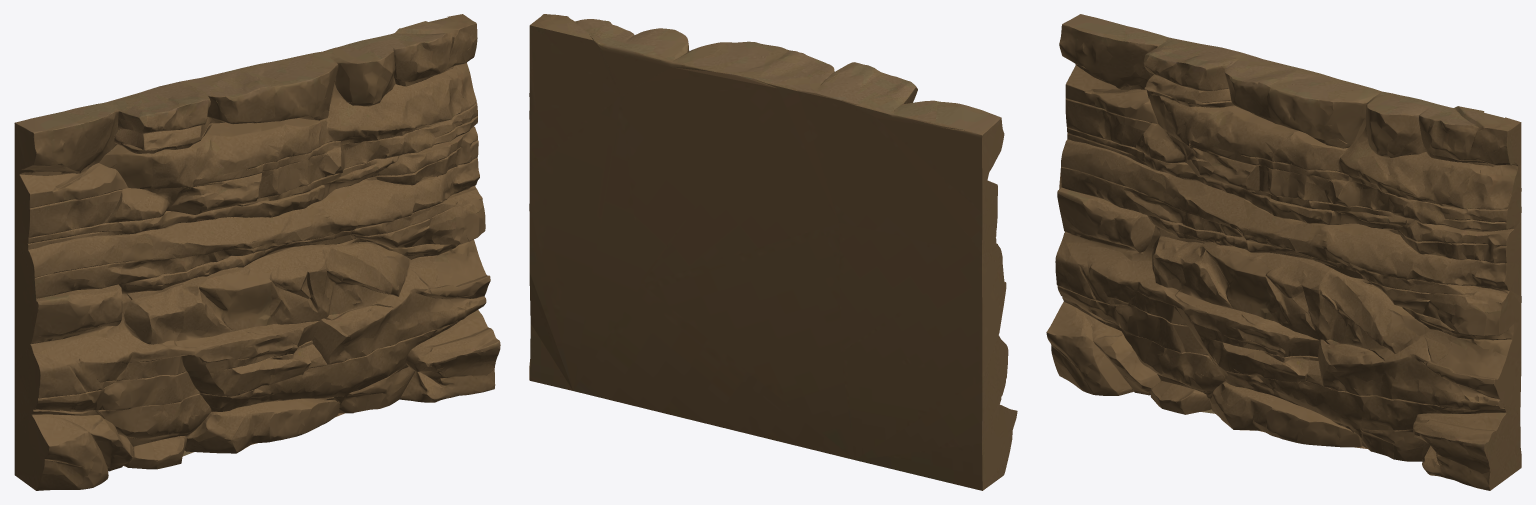
The model's file is roccia_parete.glb.
3 views of the same model, side by side, from view 1: azimuth 30°, elevation 25°; view 2: azimuth 150°, elevation 25°; view 3: azimuth 330°, elevation 25° (orthographic). The views are drawn at different scales.
Visible parts, largest first — view 1: Mesh_0; view 2: Mesh_0; view 3: Mesh_0.
Part boxes in pixels (x1,y1,x2,y2): Mesh_0: (14, 14, 500, 490); Mesh_0: (529, 14, 1017, 490); Mesh_0: (1046, 14, 1521, 490).
Bounding box in the file's own units: 4.2 × 3.24 × 0.6562.
1 material, 1 textured.
